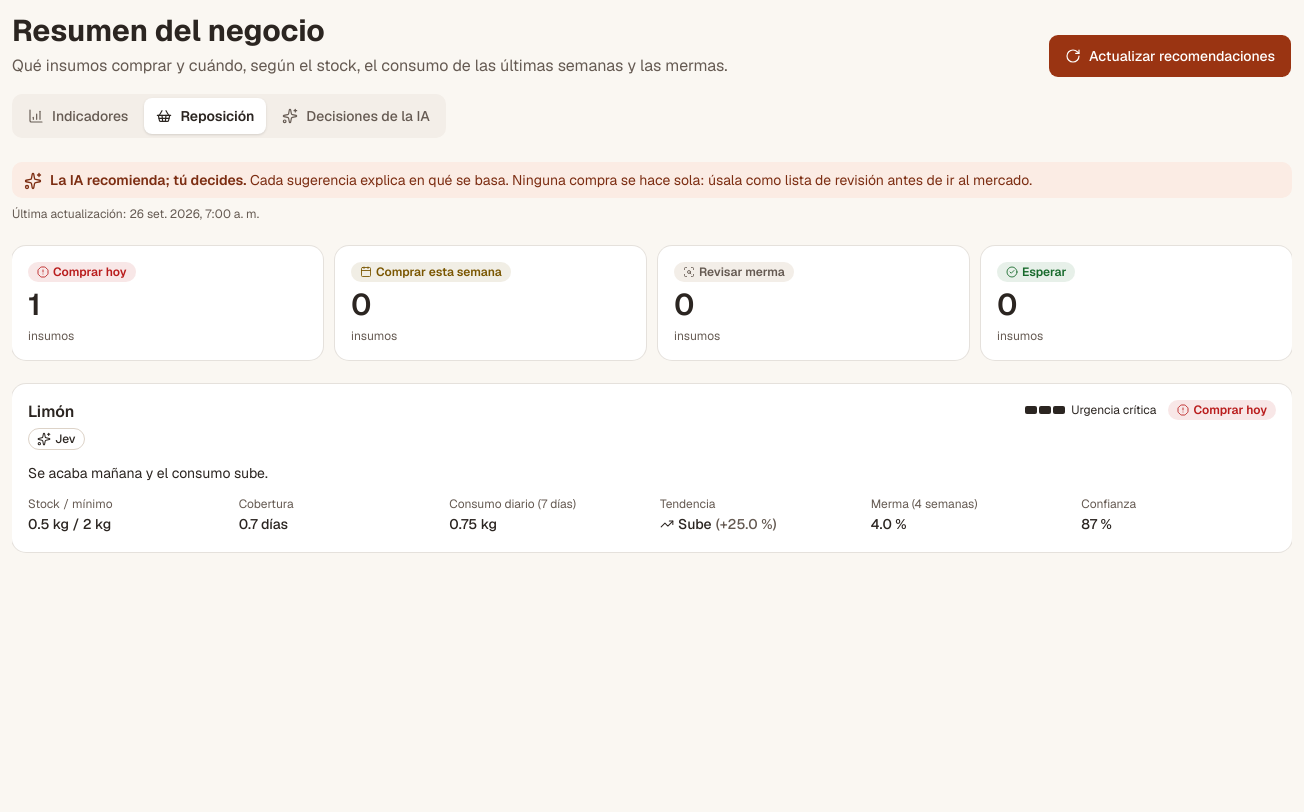
Test: RestockView › si actualizar falla lo dice y deja la recomendación anterior
Expected: the heading "Limón" is shown, [28,400,74,422]
Click the button "Actualizar recomendaciones". click: x=1170, y=56
box: [1048,34,1292,78]
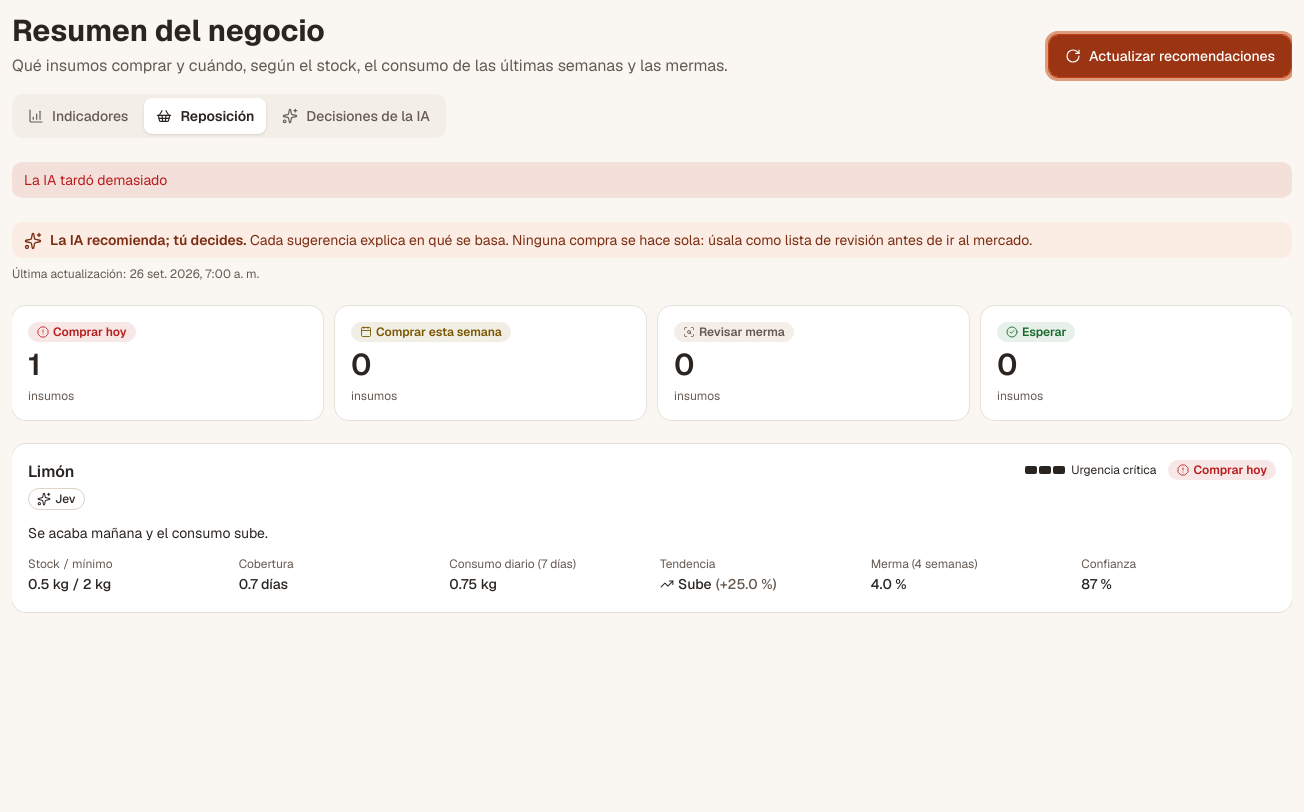
Expected: the heading "Limón" is shown, [28,460,74,482]
Result: the text "La IA tardó demasiado" is shown at [12,162,1292,198]
